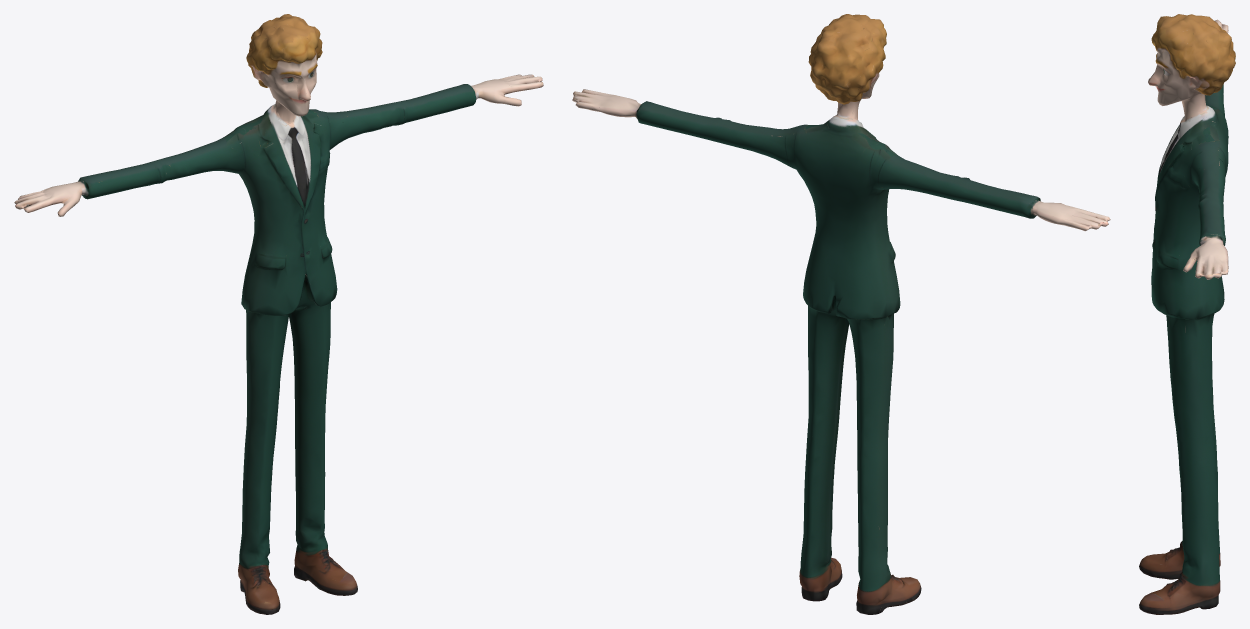
Rendered from Meshy_AI_Elegant_Figure_in_Gre_0108084737_texture.fbx.
The picture shows the model from 3 angles, left to right: view 1: azimuth 30°, elevation 25°; view 2: azimuth 150°, elevation 25°; view 3: azimuth 270°, elevation 25°; orthographic projection.
Visible parts, largest first — view 1: Mesh_0; view 2: Mesh_0; view 3: Mesh_0.
Boxes of the visible parts, x1,y1,x2,y2 form: Mesh_0: (14,14,543,614); Mesh_0: (572,14,1110,614); Mesh_0: (1139,14,1235,614).
Size of the model in its own units: 186 by 192 by 29.34.
Materials: 1 (1 with a texture image).
